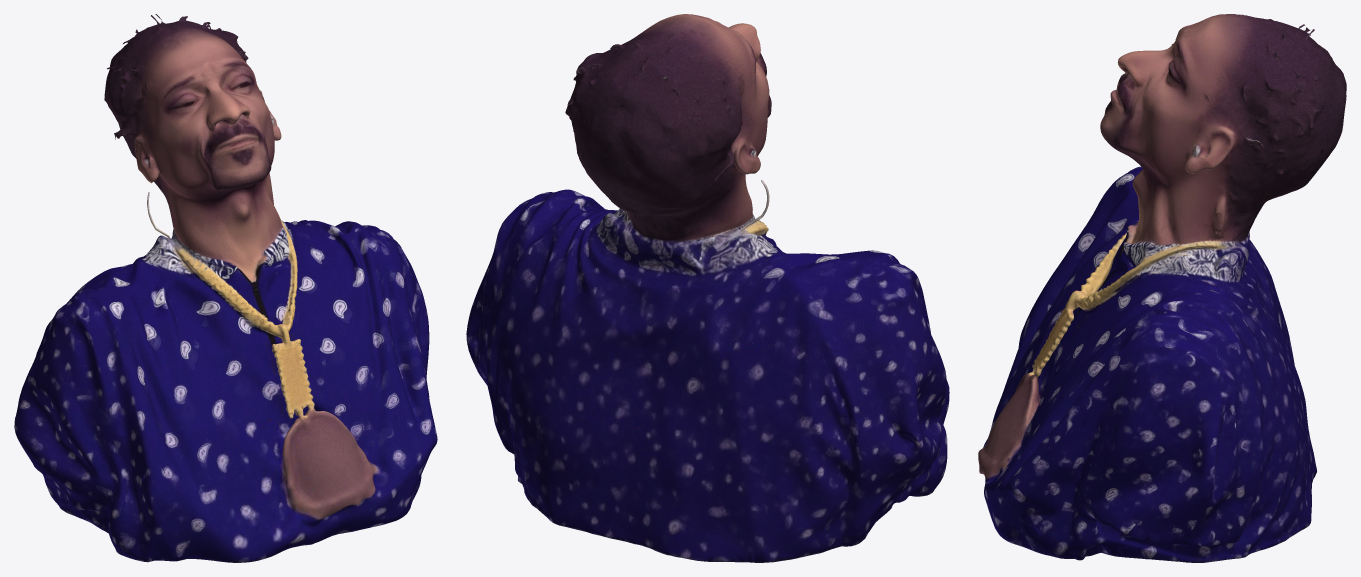
The model's file is snoop_dogg_compressed.glb.
3 renders of one model, left to right at view 1: azimuth 30°, elevation 25°; view 2: azimuth 150°, elevation 25°; view 3: azimuth 270°, elevation 25°, orthographic. The views are drawn at different scales.
Bounding box in the file's own units: 1.8 × 1.89 × 1.36.
Materials: 1 (1 with a texture image).
